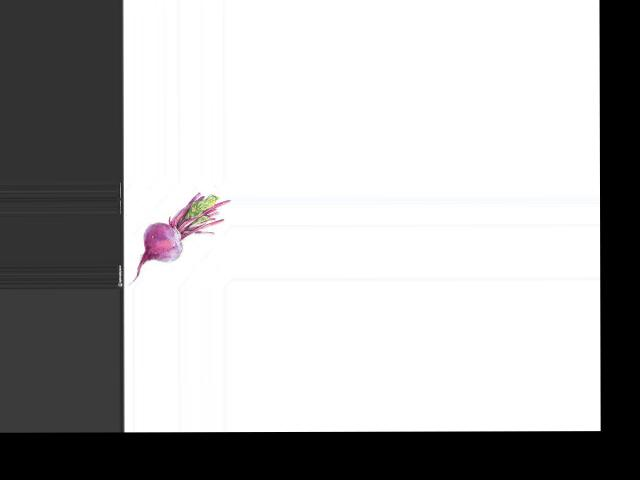beet: (128, 192, 231, 284)
